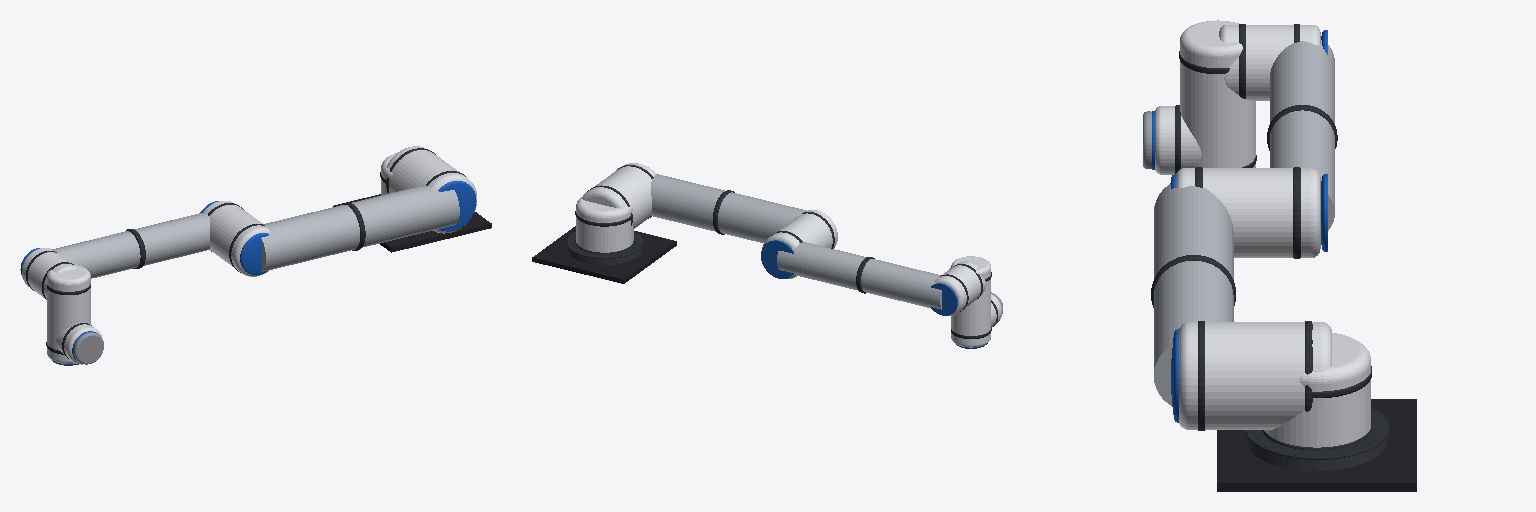
URDF robot description (sixaxis_ur5like):
<?xml version="1.0"?>
<robot name="sixaxis_ur5like">
  <material name="housing"><color rgba="0.86 0.87 0.89 1.0"/></material>
  <material name="tube"><color rgba="0.72 0.74 0.77 1.0"/></material>
  <material name="cap"><color rgba="0.16 0.42 0.78 1.0"/></material>
  <material name="ring"><color rgba="0.22 0.23 0.26 1.0"/></material>
  <material name="base"><color rgba="0.28 0.29 0.32 1.0"/></material>
  <material name="plate"><color rgba="0.18 0.18 0.2 1.0"/></material>
  <material name="flange"><color rgba="0.62 0.64 0.67 1.0"/></material>
  <material name="tcp"><color rgba="0.95 0.55 0.1 1.0"/></material>
  <link name="base_link">
    <inertial><mass value="1"/><inertia ixx="1" iyy="1" izz="1" ixy="0" ixz="0" iyz="0"/></inertial>
    <visual><origin xyz="0.0 0.0 0.005" rpy="0.0 0.0 0.0"/><geometry><box size="0.22 0.22 0.01"/></geometry><material name="plate"/></visual>
    <collision><origin xyz="0.0 0.0 0.005" rpy="0.0 0.0 0.0"/><geometry><box size="0.22 0.22 0.01"/></geometry></collision>
    <visual><origin xyz="0.0 0.0 0.0185" rpy="0.0 0.0 0.0"/><geometry><mesh filename="meshes/housing_L0170_R0780.obj" scale="1 1 1"/></geometry><material name="base"/></visual>
    <collision><origin xyz="0.0 0.0 0.0185" rpy="0.0 0.0 0.0"/><geometry><cylinder length="0.017" radius="0.078"/></geometry></collision>
    <visual><origin xyz="0.0 0.0 0.0255" rpy="0.0 0.0 0.0"/><geometry><mesh filename="meshes/ring_L0030_R0800.obj" scale="1 1 1"/></geometry><material name="ring"/></visual>
  </link>
  <link name="link1">
    <inertial><origin xyz="0.0 0.0 0.0445795" rpy="0.0 0.0 0.0"/><mass value="3.7"/><inertia ixx="0.005781042578308333" iyy="0.005781042578308333" izz="0.00666" ixy="0" ixz="0" iyz="0"/></inertial>
    <visual><origin xyz="0.0 0.0 0.06" rpy="0.0 0.0 0.0"/><geometry><mesh filename="meshes/housing_L1200_R0600.obj" scale="1 1 1"/></geometry><material name="housing"/></visual>
    <collision><origin xyz="0.0 0.0 0.06" rpy="0.0 0.0 0.0"/><geometry><cylinder length="0.12" radius="0.06"/></geometry></collision>
    <visual><origin xyz="0.0 0.0 0.025999999999999995" rpy="0.0 0.0 0.0"/><geometry><mesh filename="meshes/ring_L0100_R0612.obj" scale="1 1 1"/></geometry><material name="ring"/></visual>
    <visual><origin xyz="0.0 0.0 0.094" rpy="0.0 0.0 0.0"/><geometry><mesh filename="meshes/ring_L0100_R0612.obj" scale="1 1 1"/></geometry><material name="ring"/></visual>
  </link>
  <link name="link2">
    <inertial><origin xyz="-0.2125 0.0 0.0" rpy="0.0 -1.5707963267948966 0.0"/><mass value="8.393"/><inertia ixx="0.13267934166666667" iyy="0.13267934166666667" izz="0.012694412500000002" ixy="0" ixz="0" iyz="0"/></inertial>
    <visual><origin xyz="0.0 0.0 0.068" rpy="0.0 0.0 0.0"/><geometry><mesh filename="meshes/housing_L1700_R0600.obj" scale="1 1 1"/></geometry><material name="housing"/></visual>
    <collision><origin xyz="0.0 0.0 0.068" rpy="0.0 0.0 0.0"/><geometry><cylinder length="0.17" radius="0.06"/></geometry></collision>
    <visual><origin xyz="0.0 0.0 0.008999999999999994" rpy="0.0 0.0 0.0"/><geometry><mesh filename="meshes/ring_L0100_R0612.obj" scale="1 1 1"/></geometry><material name="ring"/></visual>
    <visual><origin xyz="0.0 0.0 0.15600000000000003" rpy="0.0 0.0 0.0"/><geometry><mesh filename="meshes/cap_L0100_R0516.obj" scale="1 1 1"/></geometry><material name="cap"/></visual>
    <visual><origin xyz="0.0 0.0 0.127" rpy="0.0 0.0 0.0"/><geometry><mesh filename="meshes/ring_L0100_R0612.obj" scale="1 1 1"/></geometry><material name="ring"/></visual>
    <visual><origin xyz="-0.2125 0.0 0.13585" rpy="0.0 -1.5707963267948966 0.0"/><geometry><mesh filename="meshes/tube_L4250_R0440.obj" scale="1 1 1"/></geometry><material name="tube"/></visual>
    <collision><origin xyz="-0.2125 0.0 0.13585" rpy="0.0 -1.5707963267948966 0.0"/><geometry><cylinder length="0.425" radius="0.044"/></geometry></collision>
    <visual><origin xyz="-0.2125 0.0 0.13585" rpy="-0.0 1.5707963267948966 0.0"/><geometry><mesh filename="meshes/ring_L0120_R0470.obj" scale="1 1 1"/></geometry><material name="ring"/></visual>
  </link>
  <link name="link3">
    <inertial><origin xyz="-0.196125 0.0 0.0" rpy="0.0 -1.5707963267948966 0.0"/><mass value="2.275"/><inertia ixx="0.030321022265624994" iyy="0.030321022265624994" izz="0.0023034375" ixy="0" ixz="0" iyz="0"/></inertial>
    <visual><origin xyz="0.0 0.0 0.076" rpy="0.0 0.0 0.0"/><geometry><mesh filename="meshes/housing_L1600_R0500.obj" scale="1 1 1"/></geometry><material name="housing"/></visual>
    <collision><origin xyz="0.0 0.0 0.076" rpy="0.0 0.0 0.0"/><geometry><cylinder length="0.16" radius="0.05"/></geometry></collision>
    <visual><origin xyz="0.0 0.0 -0.007000000000000006" rpy="0.0 0.0 0.0"/><geometry><mesh filename="meshes/cap_L0100_R0430.obj" scale="1 1 1"/></geometry><material name="cap"/></visual>
    <visual><origin xyz="0.0 0.0 0.021999999999999992" rpy="0.0 0.0 0.0"/><geometry><mesh filename="meshes/ring_L0100_R0510.obj" scale="1 1 1"/></geometry><material name="ring"/></visual>
    <visual><origin xyz="0.0 0.0 0.159" rpy="0.0 0.0 0.0"/><geometry><mesh filename="meshes/cap_L0100_R0430.obj" scale="1 1 1"/></geometry><material name="cap"/></visual>
    <visual><origin xyz="0.0 0.0 0.13" rpy="0.0 0.0 0.0"/><geometry><mesh filename="meshes/ring_L0100_R0510.obj" scale="1 1 1"/></geometry><material name="ring"/></visual>
    <visual><origin xyz="-0.196125 0.0 0.016149999999999998" rpy="0.0 -1.5707963267948966 0.0"/><geometry><mesh filename="meshes/tube_L3922_R0360.obj" scale="1 1 1"/></geometry><material name="tube"/></visual>
    <collision><origin xyz="-0.196125 0.0 0.016149999999999998" rpy="0.0 -1.5707963267948966 0.0"/><geometry><cylinder length="0.39225" radius="0.036"/></geometry></collision>
    <visual><origin xyz="-0.196125 0.0 0.016149999999999998" rpy="-0.0 1.5707963267948966 0.0"/><geometry><mesh filename="meshes/ring_L0120_R0390.obj" scale="1 1 1"/></geometry><material name="ring"/></visual>
  </link>
  <link name="link4">
    <inertial><origin xyz="0.0 0.0 0.054575" rpy="0.0 0.0 0.0"/><mass value="1.219"/><inertia ixx="0.0016978356439583335" iyy="0.0016978356439583335" izz="0.0009752000000000001" ixy="0" ixz="0" iyz="0"/></inertial>
    <visual><origin xyz="0.0 0.0 0.052" rpy="0.0 0.0 0.0"/><geometry><mesh filename="meshes/housing_L1120_R0420.obj" scale="1 1 1"/></geometry><material name="housing"/></visual>
    <collision><origin xyz="0.0 0.0 0.052" rpy="0.0 0.0 0.0"/><geometry><cylinder length="0.112" radius="0.042"/></geometry></collision>
    <visual><origin xyz="0.0 0.0 -0.006999999999999999" rpy="0.0 0.0 0.0"/><geometry><mesh filename="meshes/cap_L0100_R0361.obj" scale="1 1 1"/></geometry><material name="cap"/></visual>
    <visual><origin xyz="0.0 0.0 0.021999999999999995" rpy="0.0 0.0 0.0"/><geometry><mesh filename="meshes/ring_L0100_R0428.obj" scale="1 1 1"/></geometry><material name="ring"/></visual>
    <visual><origin xyz="0.0 0.0 0.082" rpy="0.0 0.0 0.0"/><geometry><mesh filename="meshes/ring_L0100_R0428.obj" scale="1 1 1"/></geometry><material name="ring"/></visual>
  </link>
  <link name="link5">
    <inertial><origin xyz="0.0 0.0 0.047325" rpy="0.0 0.0 0.0"/><mass value="1.219"/><inertia ixx="0.001397646735625" iyy="0.001397646735625" izz="0.0009752000000000001" ixy="0" ixz="0" iyz="0"/></inertial>
    <visual><origin xyz="0.0 0.0 0.0535" rpy="0.0 0.0 0.0"/><geometry><mesh filename="meshes/housing_L1770_R0420.obj" scale="1 1 1"/></geometry><material name="housing"/></visual>
    <collision><origin xyz="0.0 0.0 0.0535" rpy="0.0 0.0 0.0"/><geometry><cylinder length="0.177" radius="0.042"/></geometry></collision>
    <visual><origin xyz="0.0 0.0 -0.009000000000000001" rpy="0.0 0.0 0.0"/><geometry><mesh filename="meshes/ring_L0100_R0428.obj" scale="1 1 1"/></geometry><material name="ring"/></visual>
    <visual><origin xyz="0.0 0.0 0.145" rpy="0.0 0.0 0.0"/><geometry><mesh filename="meshes/cap_L0100_R0361.obj" scale="1 1 1"/></geometry><material name="cap"/></visual>
    <visual><origin xyz="0.0 0.0 0.11599999999999999" rpy="0.0 0.0 0.0"/><geometry><mesh filename="meshes/ring_L0100_R0428.obj" scale="1 1 1"/></geometry><material name="ring"/></visual>
  </link>
  <link name="link6">
    <inertial><origin xyz="0.0 0.0 0.04115" rpy="0.0 0.0 0.0"/><mass value="0.1879"/><inertia ixx="0.00016360280758333335" iyy="0.00016360280758333335" izz="0.00011508875000000002" ixy="0" ixz="0" iyz="0"/></inertial>
    <visual><origin xyz="0.0 0.0 0.0275" rpy="0.0 0.0 0.0"/><geometry><mesh filename="meshes/housing_L0850_R0380.obj" scale="1 1 1"/></geometry><material name="housing"/></visual>
    <collision><origin xyz="0.0 0.0 0.0275" rpy="0.0 0.0 0.0"/><geometry><cylinder length="0.085" radius="0.038"/></geometry></collision>
    <visual><origin xyz="0.0 0.0 0.010999999999999996" rpy="0.0 0.0 0.0"/><geometry><mesh filename="meshes/ring_L0100_R0388.obj" scale="1 1 1"/></geometry><material name="ring"/></visual>
    <visual><origin xyz="0.0 0.0 0.073" rpy="0.0 0.0 0.0"/><geometry><mesh filename="meshes/cap_L0100_R0327.obj" scale="1 1 1"/></geometry><material name="cap"/></visual>
    <visual><origin xyz="0.0 0.0 0.044000000000000004" rpy="0.0 0.0 0.0"/><geometry><mesh filename="meshes/ring_L0100_R0388.obj" scale="1 1 1"/></geometry><material name="ring"/></visual>
    <visual><origin xyz="0.0 0.0 0.07629999999999999" rpy="0.0 0.0 0.0"/><geometry><mesh filename="meshes/ring_L0120_R0320.obj" scale="1 1 1"/></geometry><material name="flange"/></visual>
    <collision><origin xyz="0.0 0.0 0.07629999999999999" rpy="0.0 0.0 0.0"/><geometry><cylinder length="0.012" radius="0.032"/></geometry></collision>
    <visual><origin xyz="0.0 0.0 0.0818" rpy="0.0 0.0 0.0"/><geometry><cylinder length="0.001" radius="0.01"/></geometry><material name="tcp"/></visual>
  </link>
  <link name="flange"><inertial><mass value="1e-06"/><inertia ixx="1e-12" iyy="1e-12" izz="1e-12" ixy="0" ixz="0" iyz="0"/></inertial></link>
  <joint name="joint1" type="revolute"><parent link="base_link"/><child link="link1"/><origin xyz="0.0 0.0 0.0" rpy="0.0 0.0 0.0"/><axis xyz="0 0 1"/><limit lower="-6.283185307179586" upper="6.283185307179586" effort="150.0" velocity="3.141592653589793"/></joint>
  <joint name="joint2" type="revolute"><parent link="link1"/><child link="link2"/><origin xyz="0.0 0.0 0.089159" rpy="1.5707963267948966 0.0 0.0"/><axis xyz="0 0 1"/><limit lower="-6.283185307179586" upper="6.283185307179586" effort="150.0" velocity="3.141592653589793"/></joint>
  <joint name="joint3" type="revolute"><parent link="link2"/><child link="link3"/><origin xyz="-0.425 0.0 0.0" rpy="0.0 0.0 0.0"/><axis xyz="0 0 1"/><limit lower="-6.283185307179586" upper="6.283185307179586" effort="150.0" velocity="3.141592653589793"/></joint>
  <joint name="joint4" type="revolute"><parent link="link3"/><child link="link4"/><origin xyz="-0.39225 0.0 0.0" rpy="0.0 0.0 0.0"/><axis xyz="0 0 1"/><limit lower="-6.283185307179586" upper="6.283185307179586" effort="28.0" velocity="3.141592653589793"/></joint>
  <joint name="joint5" type="revolute"><parent link="link4"/><child link="link5"/><origin xyz="0.0 0.0 0.10915" rpy="1.5707963267948966 0.0 0.0"/><axis xyz="0 0 1"/><limit lower="-6.283185307179586" upper="6.283185307179586" effort="28.0" velocity="3.141592653589793"/></joint>
  <joint name="joint6" type="revolute"><parent link="link5"/><child link="link6"/><origin xyz="0.0 0.0 0.09465" rpy="-1.5707963267948966 0.0 0.0"/><axis xyz="0 0 1"/><limit lower="-6.283185307179586" upper="6.283185307179586" effort="28.0" velocity="3.141592653589793"/></joint>
  <joint name="flange_joint" type="fixed"><parent link="link6"/><child link="flange"/><origin xyz="0.0 0.0 0.0823" rpy="0.0 0.0 0.0"/></joint>
</robot>

--- Facts derived from the render (not from the file) ---
The picture shows the robot from 3 angles, left to right: view 1: azimuth 30°, elevation 25°; view 2: azimuth 150°, elevation 25°; view 3: azimuth 270°, elevation 25°; orthographic projection.
Robot: sixaxis_ur5like — 8 links, 7 joints (6 revolute, 1 fixed); root link base_link; default pose: every joint at zero.
Visible links, largest first — view 1: link2, link3, link5, link6, link4, base_link; view 2: link2, link3, base_link, link1, link5, link4; view 3: link2, link3, base_link, link5, link1, link4, link6.
Link boxes in pixels (box(x1,y1,x2,y2)): link2: box(261, 146, 476, 271); link3: box(52, 201, 269, 278); link5: box(46, 265, 90, 365); link6: box(56, 323, 103, 364); link4: box(20, 248, 76, 299); base_link: box(333, 194, 491, 252); link2: box(582, 163, 806, 242); link3: box(761, 210, 941, 309); base_link: box(532, 226, 676, 283); link1: box(575, 197, 633, 253); link5: box(951, 256, 991, 348); link4: box(931, 261, 986, 315); link2: box(1151, 184, 1331, 430); link3: box(1170, 40, 1337, 258); base_link: box(1217, 399, 1416, 491); link5: box(1179, 20, 1256, 167); link1: box(1262, 333, 1371, 450); link4: box(1219, 24, 1327, 100); link6: box(1143, 105, 1201, 174).
Bounding box of the posed robot: 0.9701 × 0.3015 × 0.2112 m (x, y, z).
31 mesh visuals loaded from 21 distinct referenced files (21 OBJ).
